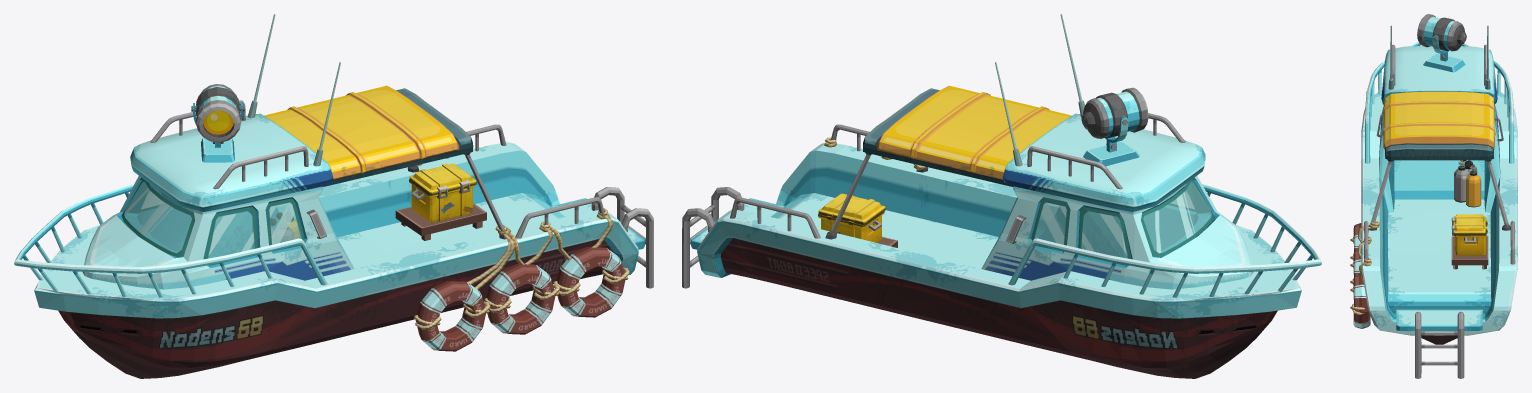
Rendered from boat.glb.
The picture shows the model from 3 angles, left to right: view 1: azimuth 30°, elevation 25°; view 2: azimuth 150°, elevation 25°; view 3: azimuth 270°, elevation 25°; orthographic projection. The views are drawn at different scales.
Size of the model in its own units: 12.56 by 6.14 by 3.97.
Materials: 7 (7 with a texture image).
